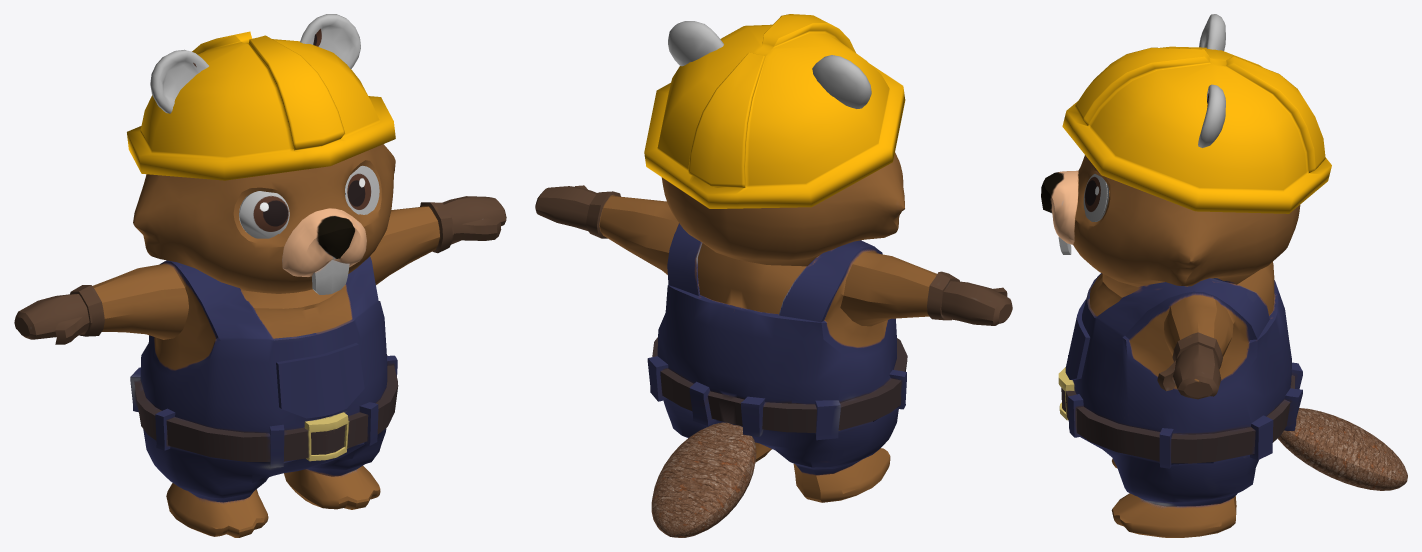
The model's file is PLAYRcl.fbx.
3 renders of one model, left to right at view 1: azimuth 30°, elevation 25°; view 2: azimuth 150°, elevation 25°; view 3: azimuth 270°, elevation 25°, orthographic. The views are drawn at different scales.
Visible parts, largest first — view 1: base_gin, hat, ear, eye; view 2: base_gin, hat, tail, ear; view 3: base_gin, hat, tail, ear, eye.
Part boxes in pixels (x1,y1,x2,y2): base_gin: (14,144,506,537); hat: (127,31,395,180); ear: (150,14,360,113); eye: (239,165,379,238); base_gin: (535,152,1012,502); hat: (644,14,905,208); tail: (651,422,756,537); ear: (668,21,871,108); base_gin: (1041,155,1302,537); hat: (1062,46,1331,213); tail: (1278,408,1407,490); ear: (1198,14,1225,147); eye: (1083,174,1108,221).
Bounding box in the file's own units: 1440 × 1318 × 982.
